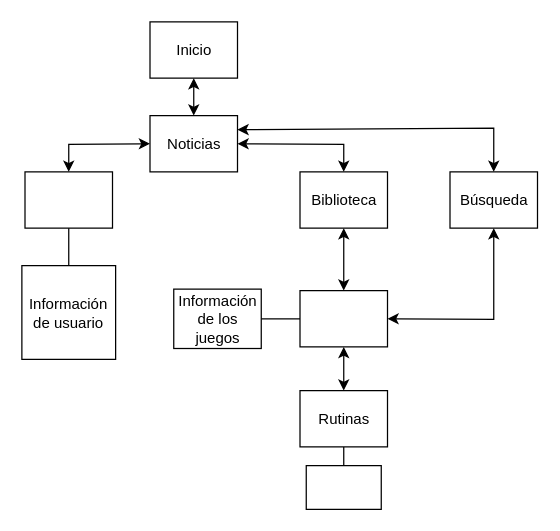
Some shapes in this 560 by 531 pixel diagram are drawn without their labels. The shapes that lost their labels are listed below. From the top down, each one's box as (x1, y1, x2, y2) in pixels, then its label:
(24, 171, 112, 228): Perfil
(299, 289, 388, 347): Juegos
(305, 464, 381, 509): Pasos
